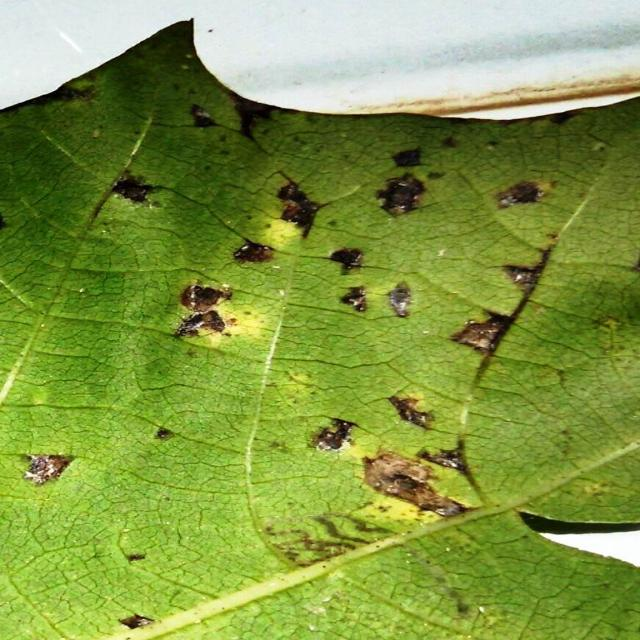Bacterial Blight: (30, 114, 584, 500)
